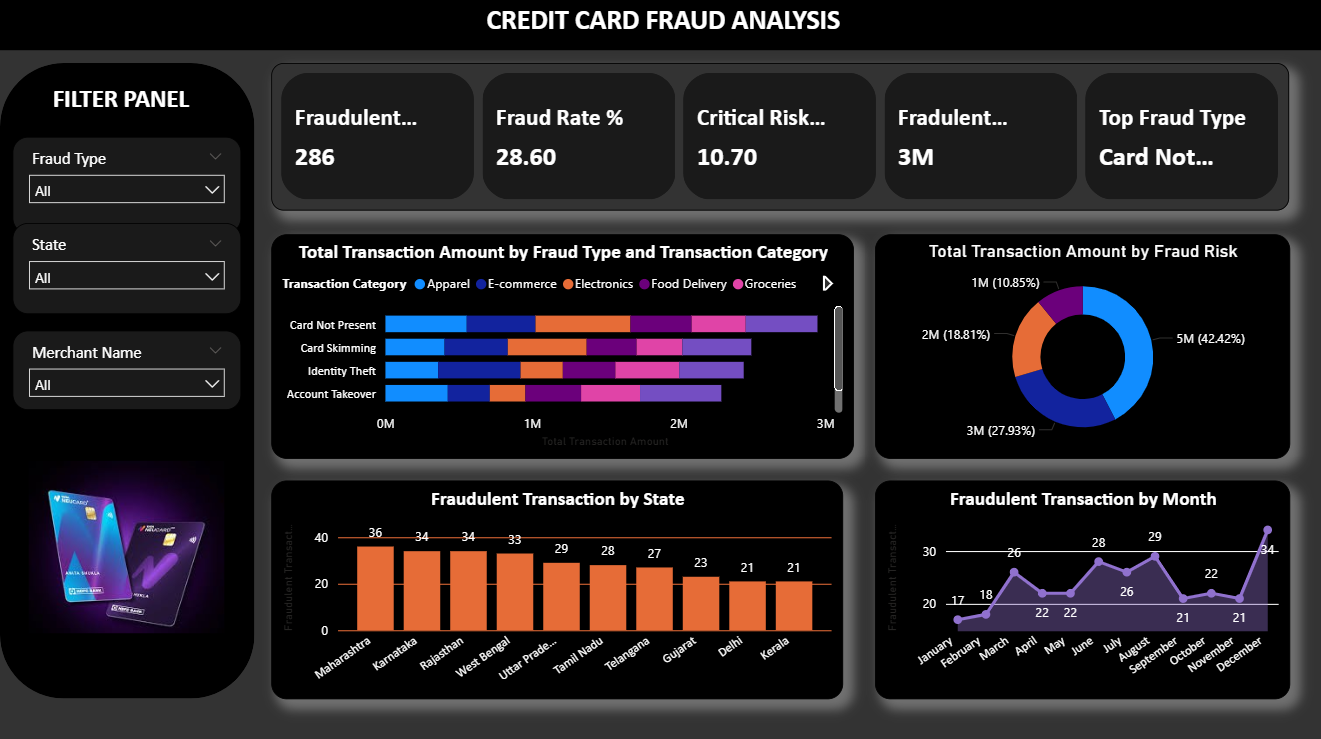

The page's visual inventory and layout, read from the dashboard file:
{"tool":"powerbi","page":{"name":"Page 1","canvas":[1280,720],"ordinal":0},"visuals":[{"type":"textbox","box":[0,0,1280.3,50.8],"z":0},{"type":"shape","box":[0,63.1,245.6,613.4],"z":1000},{"type":"textbox","box":[45.3,76.8,155.1,42.5],"z":2000},{"type":"barChart","fields":{"Y":["Credit Card Fraud Risk Analysis.Total Transaction Amount"],"Category":["Credit Card Fraud Risk Analysis.Fraud Type"],"Series":["Credit Card Fraud Risk Analysis.Transaction Category"]},"box":[262.1,227.8,562.6,216.8],"z":3000},{"type":"donutChart","fields":{"Y":["Credit Card Fraud Risk Analysis.Total Transaction Amount"],"Category":["Credit Card Fraud Risk Analysis.Fraud Risk"]},"box":[843.9,227.8,400.7,216.8],"z":4000},{"type":"columnChart","fields":{"Category":["Credit Card Fraud Risk Analysis.State"],"Y":["Credit Card Fraud Risk Analysis.Fraudulent Transaction"]},"box":[262.1,465.2,551.6,211.3],"z":5000},{"type":"lineChart","fields":{"Y":["Credit Card Fraud Risk Analysis.Fraudulent Transaction"],"Category":["Credit Card Fraud Risk Analysis.Transaction Date.Variation.Date Hierarchy.Month"]},"box":[843.9,465.2,400.7,211.3],"z":6000},{"type":"slicer","fields":{"Values":["Credit Card Fraud Risk Analysis.Fraud Type"]},"box":[12.3,134.5,220.9,93.3],"z":7000},{"type":"slicer","fields":{"Values":["Credit Card Fraud Risk Analysis.State"]},"box":[12.3,216.8,220.9,87.8],"z":8000},{"type":"slicer","fields":{"Values":["Credit Card Fraud Risk Analysis.Merchant Name"]},"box":[12.3,321.1,220.9,76.8],"z":9000},{"type":"cardVisual","fields":{"Data":["Credit Card Fraud Risk Analysis.Fraudulent Transaction","Credit Card Fraud Risk Analysis.Fraud Rate %","Credit Card Fraud Risk Analysis.Critical Risk Transaction","Credit Card Fraud Risk Analysis.Fradulent Transaction Amount","Credit Card Fraud Risk Analysis.Top Fraud Type"]},"box":[262.1,63.1,982.5,142.7],"z":10000},{"type":"image","box":[23.3,433.6,199,193.5],"z":11000}]}

Visuals, with their boxes in screenshot pixels (x1, y1, x2, y2), scaled from the page's 1280x720 canvas onto the 1321x739 screenshot:
textbox: [0,0,1320,52]
shape: [0,65,253,694]
textbox: [47,79,207,122]
barChart - Credit Card Fraud Risk Analysis.Total Transaction Amount x Credit Card Fraud Risk Analysis.Fraud Type: [270,234,851,456]
donutChart - Credit Card Fraud Risk Analysis.Total Transaction Amount x Credit Card Fraud Risk Analysis.Fraud Risk: [871,234,1284,456]
columnChart - Credit Card Fraud Risk Analysis.State x Credit Card Fraud Risk Analysis.Fraudulent Transaction: [270,477,840,694]
lineChart - Credit Card Fraud Risk Analysis.Fraudulent Transaction x Credit Card Fraud Risk Analysis.Transaction Date.Variation.Date Hierarchy.Month: [871,477,1284,694]
slicer - Credit Card Fraud Risk Analysis.Fraud Type: [13,138,241,234]
slicer - Credit Card Fraud Risk Analysis.State: [13,223,241,313]
slicer - Credit Card Fraud Risk Analysis.Merchant Name: [13,330,241,408]
cardVisual - Credit Card Fraud Risk Analysis.Fraudulent Transaction x Credit Card Fraud Risk Analysis.Fraud Rate %: [270,65,1284,211]
image: [24,445,229,644]
